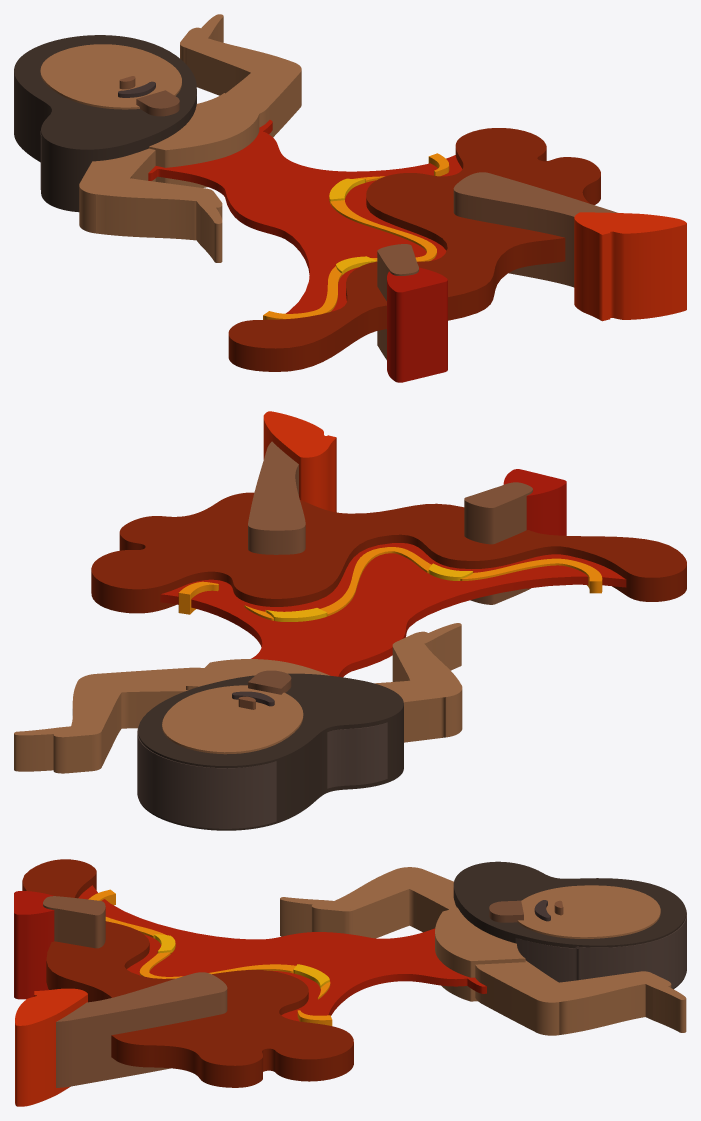
File: emoji_u1f483_1f3fe.glb
3 views of the same model, one above another, from view 1: azimuth 30°, elevation 25°; view 2: azimuth 150°, elevation 25°; view 3: azimuth 270°, elevation 25° (orthographic). The views are drawn at different scales.
Visible parts, largest first — view 1: emoji_u1f483_1f3fe; view 2: emoji_u1f483_1f3fe; view 3: emoji_u1f483_1f3fe.
Boxes of the visible parts, x1=… form: emoji_u1f483_1f3fe: x1=14, y1=14, x2=686, y2=382; emoji_u1f483_1f3fe: x1=14, y1=411, x2=686, y2=830; emoji_u1f483_1f3fe: x1=14, y1=859, x2=686, y2=1106.
Size of the model in its own units: 0.0241 by 0.0048 by 0.0332.
